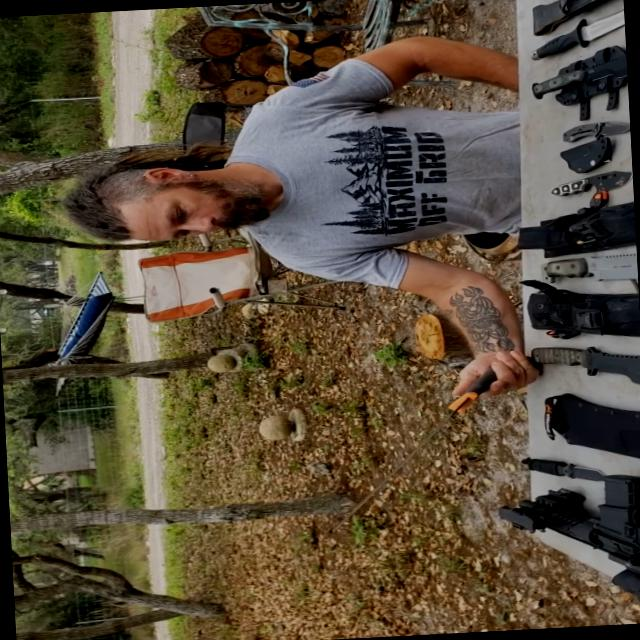knife: (298, 357, 513, 538), (503, 328, 639, 394), (496, 49, 628, 112), (524, 2, 626, 62), (502, 442, 612, 490), (532, 240, 638, 284), (530, 162, 634, 202), (537, 114, 630, 148)
long weapon: (468, 450, 639, 609)
